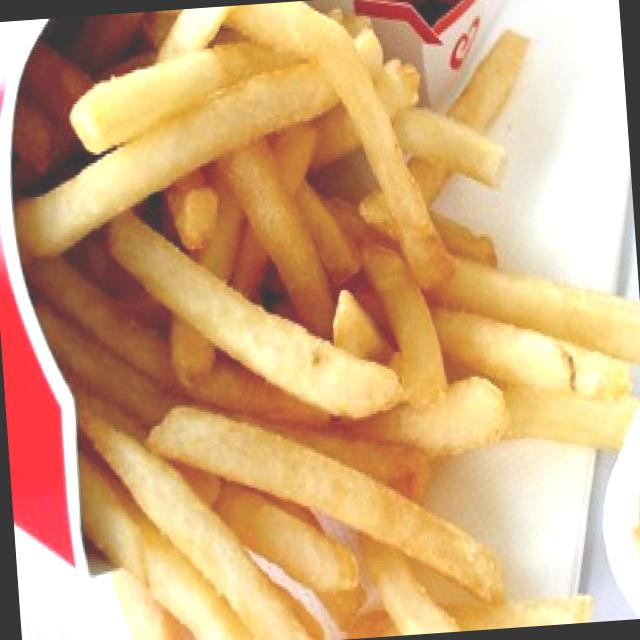French Fries: (73, 16, 620, 640)
